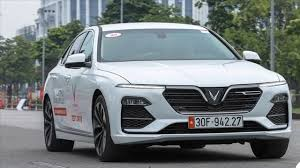Car number plates: (194, 116, 243, 128)
